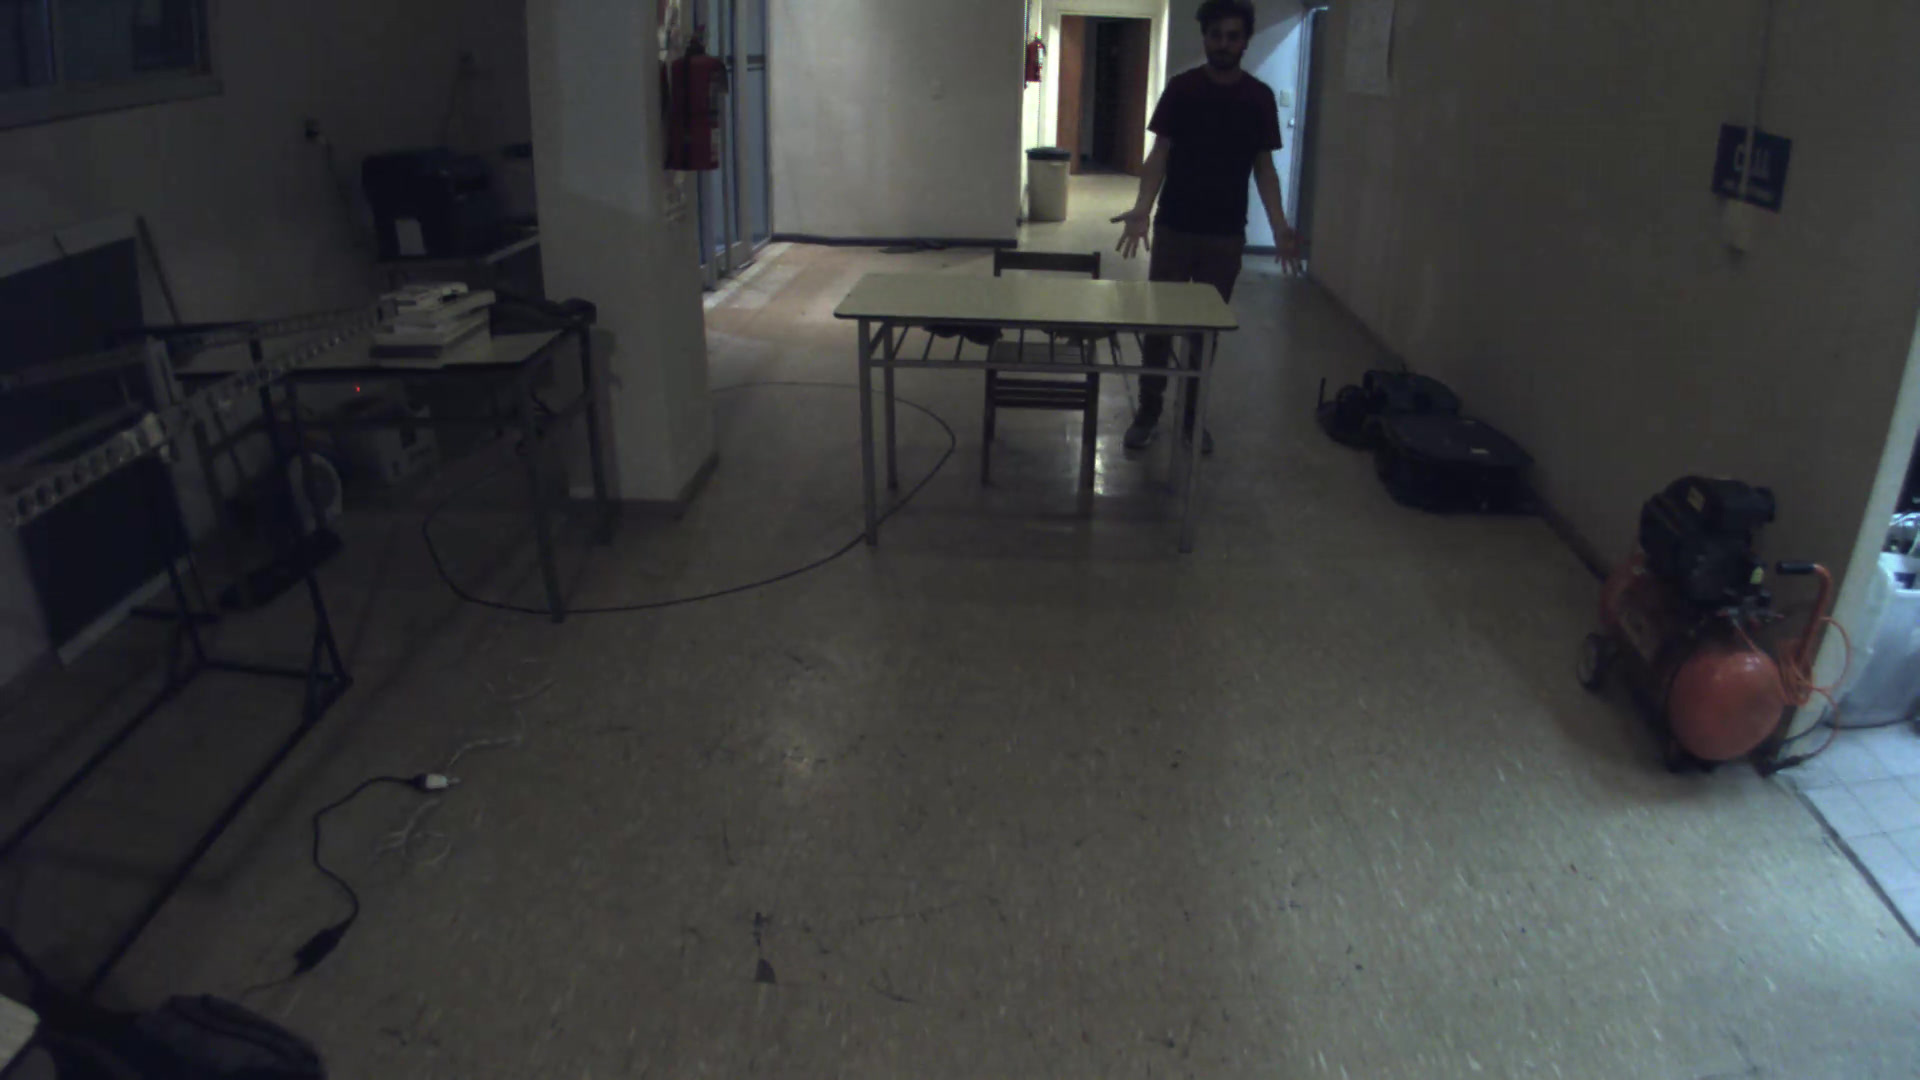hand: (1262, 218, 1332, 286), (1101, 195, 1160, 266)
